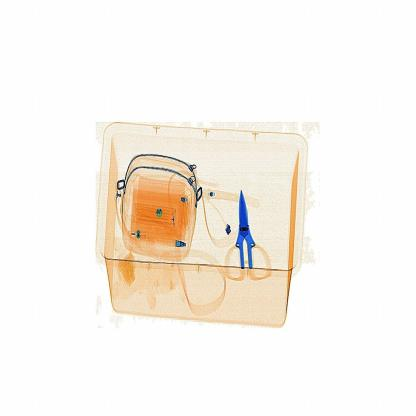gun: (218, 183, 274, 291)
